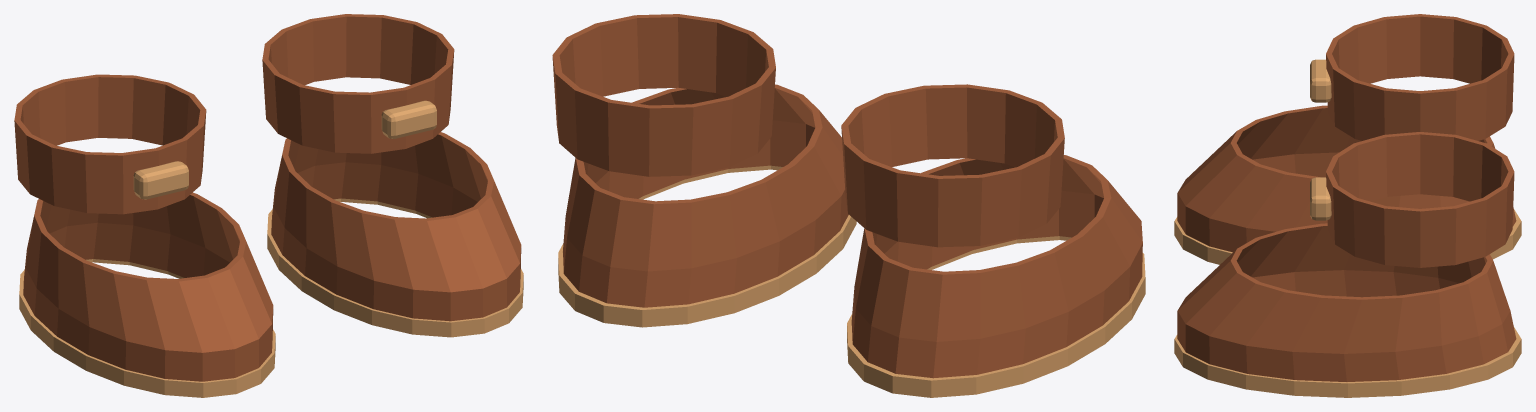
Rendered from FeetItem.fbx.
3 views of the same model, side by side, from view 1: azimuth 30°, elevation 25°; view 2: azimuth 150°, elevation 25°; view 3: azimuth 270°, elevation 25° (orthographic). The views are drawn at different scales.
Visible parts, largest first — view 1: FeetItem; view 2: FeetItem; view 3: FeetItem.
Part boxes in pixels (<box>): FeetItem: <box>14,14,523,397</box>; FeetItem: <box>552,14,1145,397</box>; FeetItem: <box>1174,14,1521,397</box>.
Bounding box in the file's own units: 95 × 38.93 × 67.36.
Materials: 1 (1 with a texture image).
